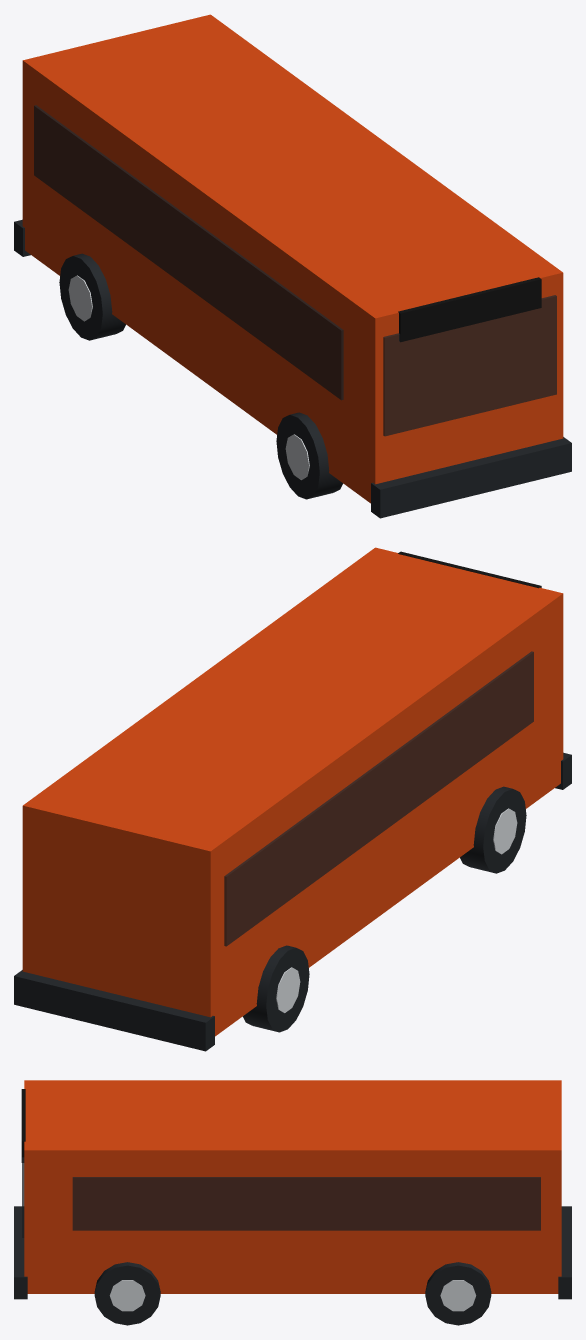
Rendered from bus.glb.
3 views of the same model, one above another, from view 1: azimuth 30°, elevation 25°; view 2: azimuth 150°, elevation 25°; view 3: azimuth 270°, elevation 25° (orthographic). The views are drawn at different scales.
Visible parts, largest first — view 1: Bus; view 2: Bus; view 3: Bus.
Boxes of the visible parts, x1,y1,x2,y2 form: Bus: (14, 14, 571, 518); Bus: (14, 547, 571, 1051); Bus: (14, 1080, 571, 1325).
Size of the model in its own units: 2.66 by 2.75 by 8.1.
